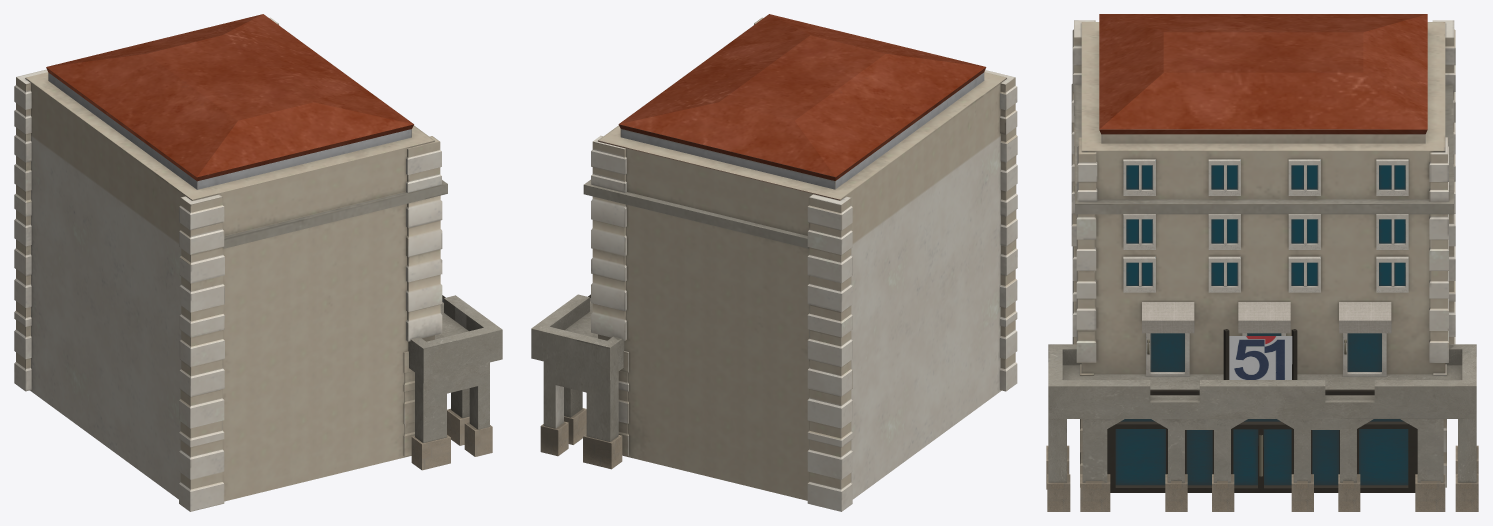
File: Bat_VieuxPort_6.fbx
3 views of the same model, side by side, from view 1: azimuth 30°, elevation 25°; view 2: azimuth 150°, elevation 25°; view 3: azimuth 270°, elevation 25° (orthographic). The views are drawn at different scales.
Visible parts, largest first — view 1: Bat_VieuxP_6; view 2: Bat_VieuxP_6; view 3: Bat_VieuxP_6.
Boxes of the visible parts, x1,y1,x2,y2 form: Bat_VieuxP_6: [14, 14, 502, 511]; Bat_VieuxP_6: [531, 14, 1017, 511]; Bat_VieuxP_6: [1046, 14, 1478, 511].
Bounding box in the file's own units: 1301 × 1415 × 1485.
